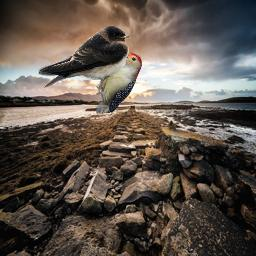Swallow: (38, 25, 131, 88)
Woodpecker: (96, 48, 142, 113)
